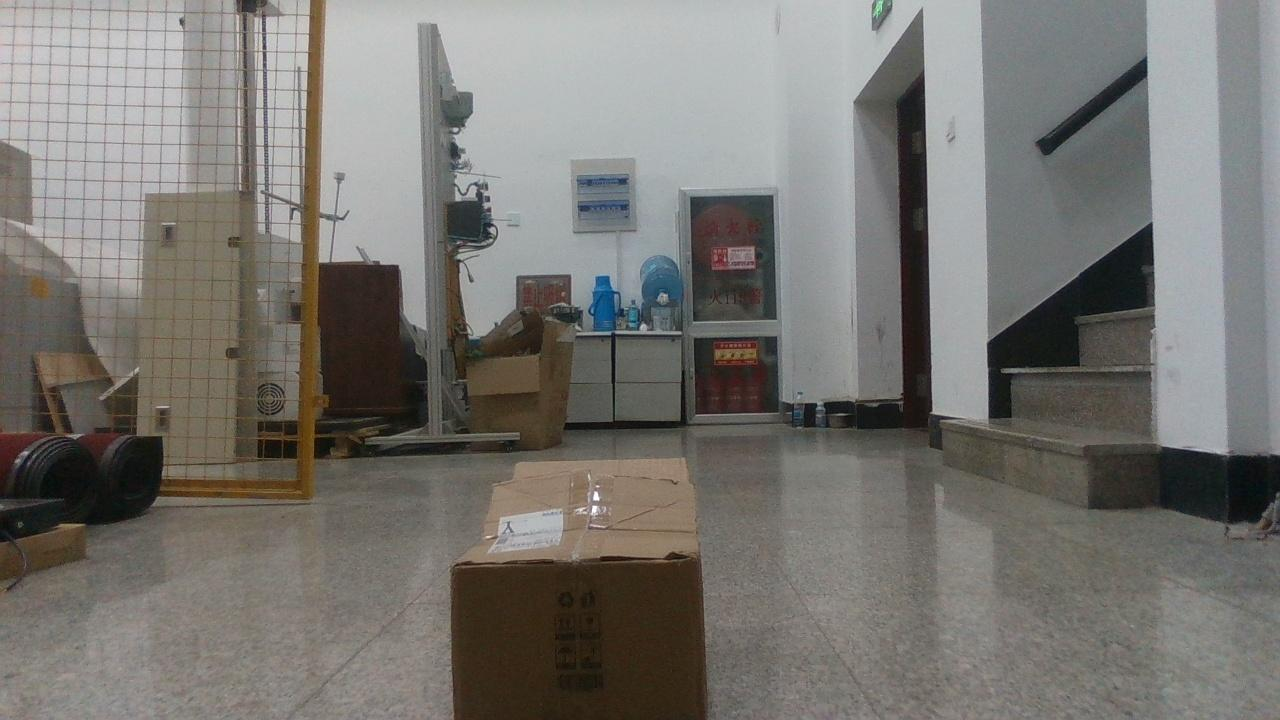box: (450, 458, 708, 716)
